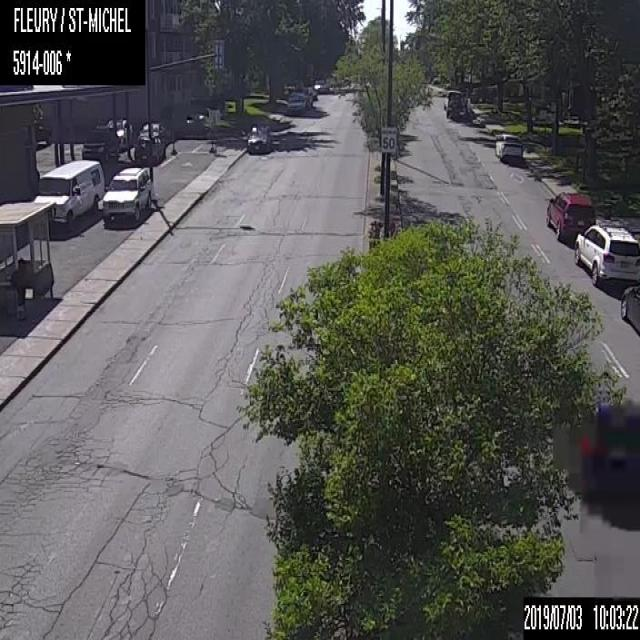vehicle: (32, 158, 104, 228), (573, 219, 639, 288), (542, 186, 596, 244), (102, 164, 152, 224), (82, 120, 119, 162), (135, 121, 166, 165), (619, 278, 639, 335), (442, 88, 474, 123), (107, 115, 133, 151), (494, 132, 524, 160), (246, 121, 269, 151), (285, 91, 306, 112)
